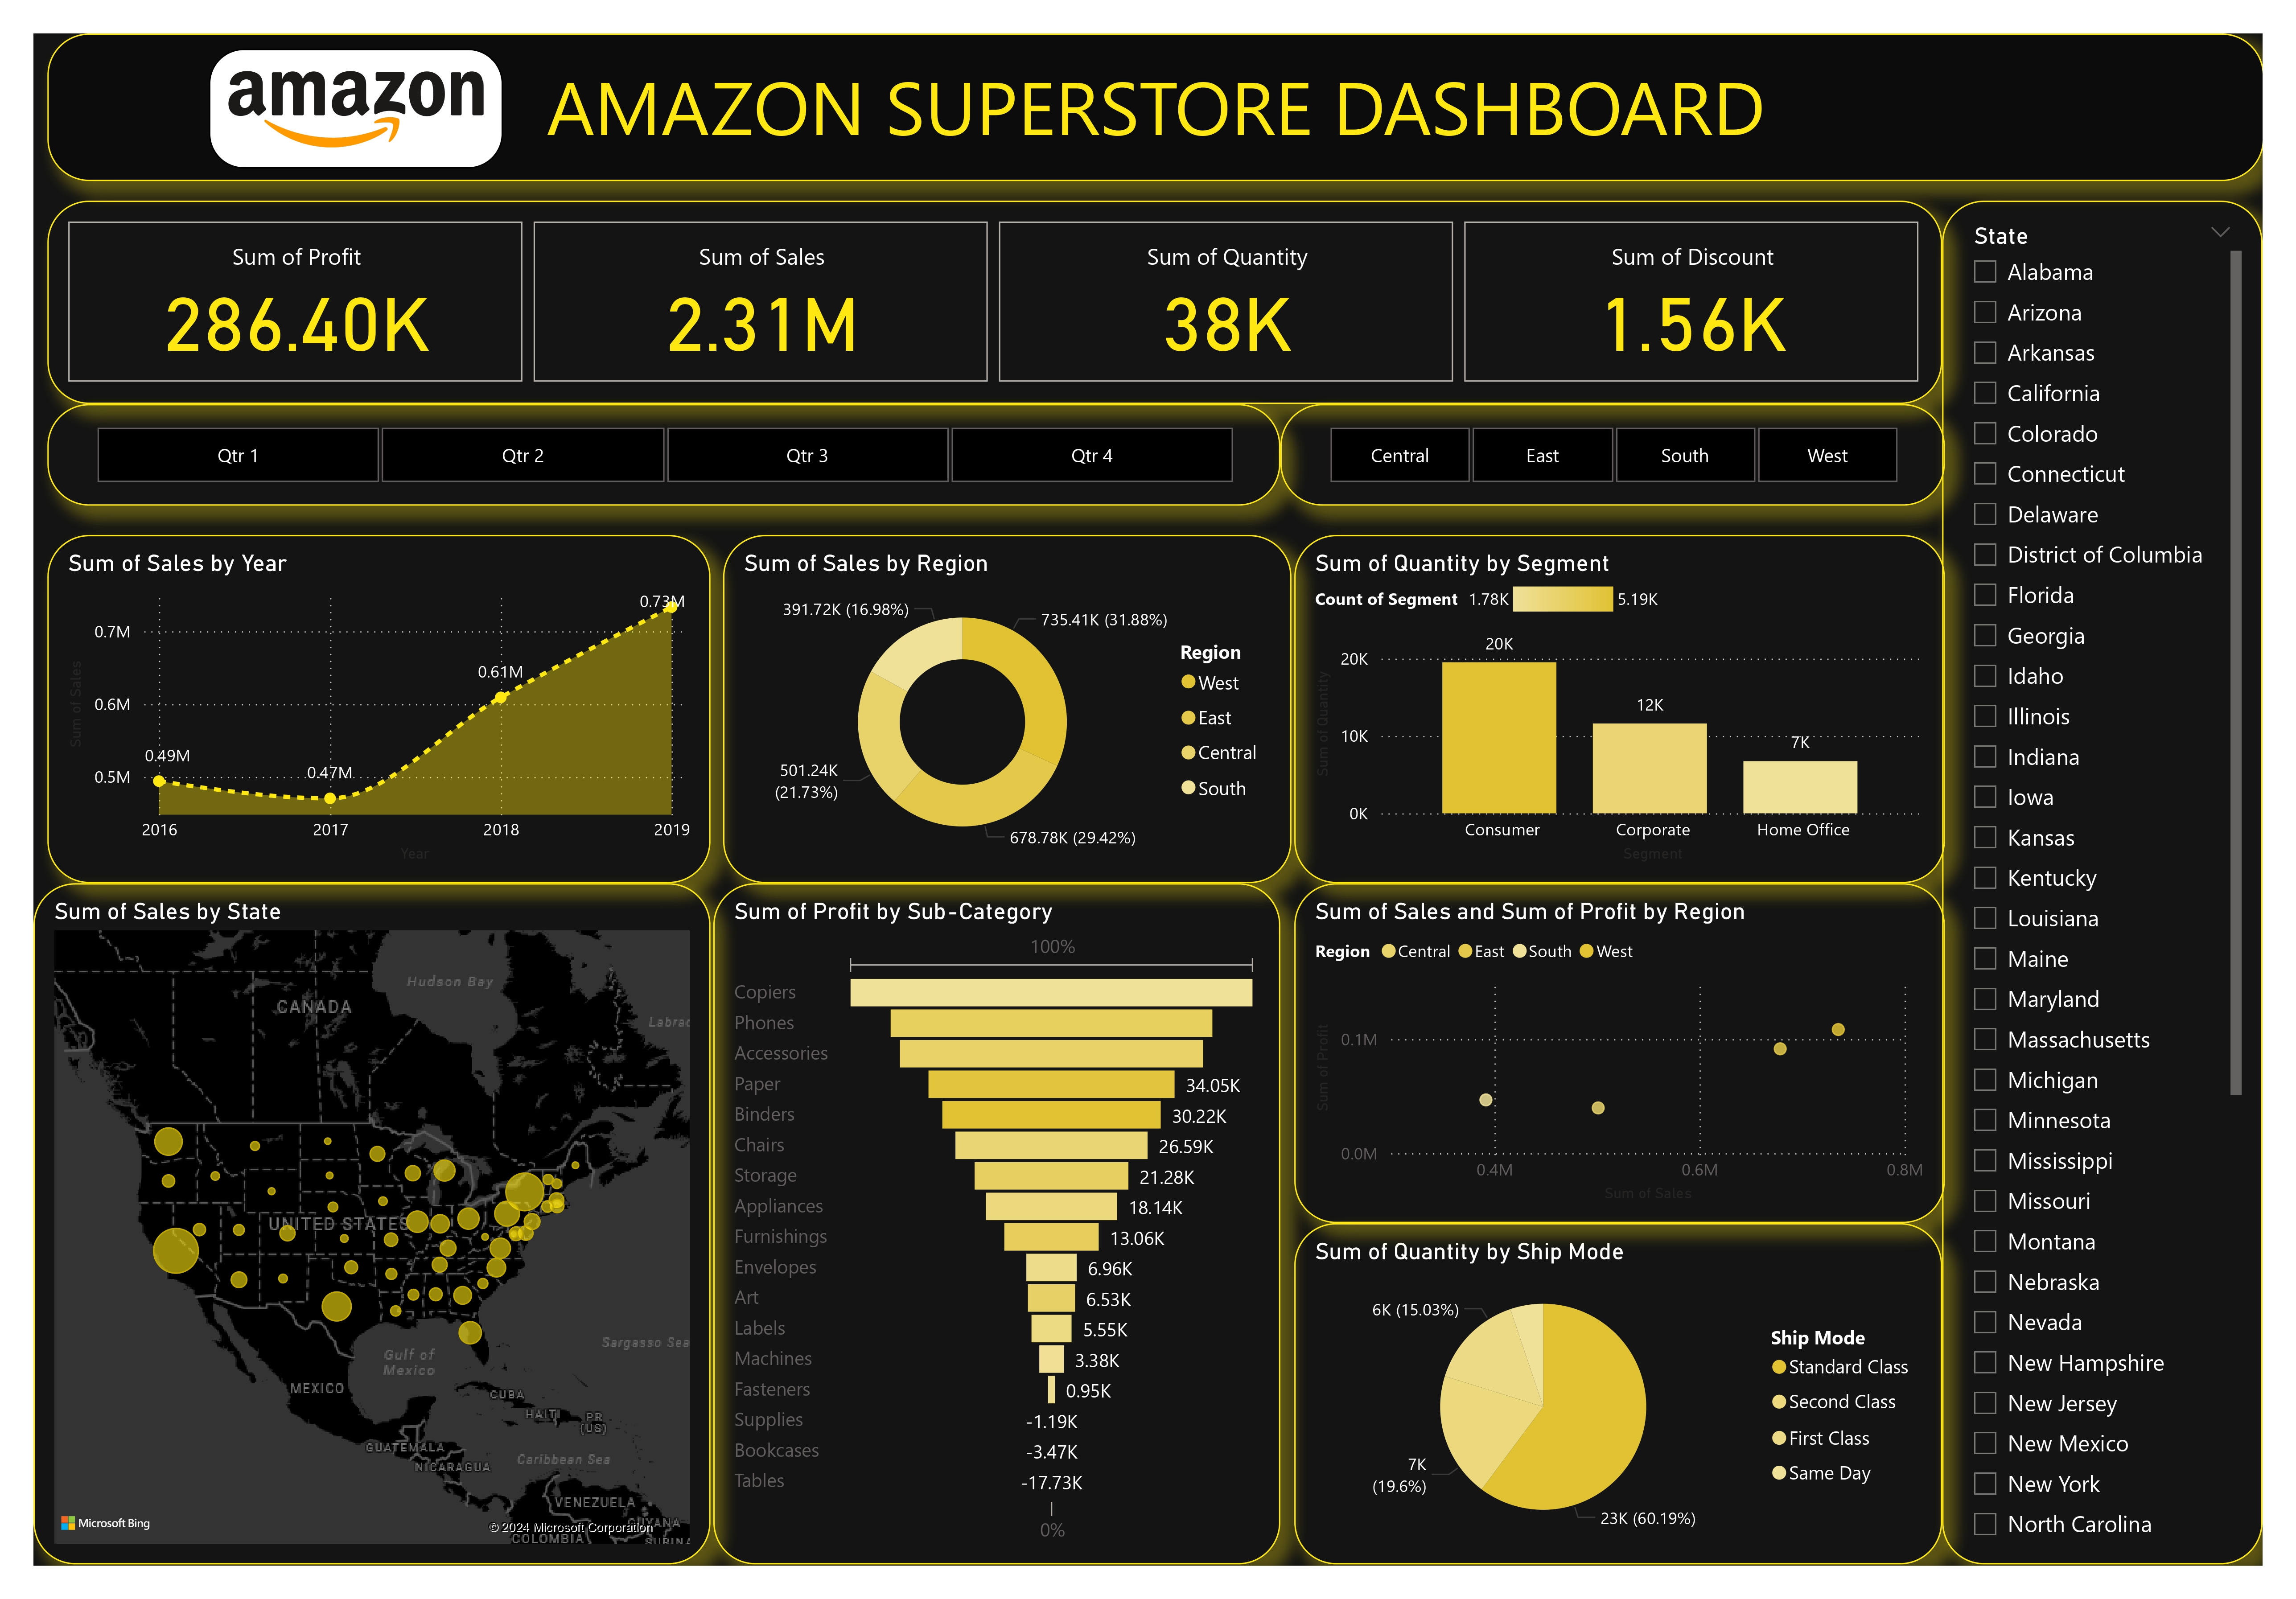

What the dashboard file says about the page in this screenshot:
{"tool":"powerbi","page":{"name":"DASHBAORD","canvas":[1600,1100],"ordinal":0},"visuals":[{"type":"textbox","box":[9.8,0,1590.8,106.4],"z":0},{"type":"donutChart","fields":{"Category":["Orders.Region"],"Y":["Sum(Orders.Sales)"]},"box":[494.5,360,408.6,249.7],"z":1000},{"type":"lineChart","fields":{"Category":["Orders.Order Date.Variation.Date Hierarchy.Year","Orders.Order Date.Variation.Date Hierarchy.Quarter","Orders.Order Date.Variation.Date Hierarchy.Month","Orders.Order Date.Variation.Date Hierarchy.Day"],"Y":["Sum(Orders.Sales)"]},"box":[9.7,360,476.7,249.7],"z":2000},{"type":"map","fields":{"Category":["Orders.State"],"Size":["Sum(Orders.Sales)"]},"box":[0,609.7,486.4,489.7],"z":3000},{"type":"slicer","fields":{"Values":["Orders.State"]},"box":[1370.1,120,230.2,979.3],"z":4000},{"type":"funnel","fields":{"Y":["Sum(Orders.Profit)"],"Category":["Orders.Sub-Category"]},"box":[488,609.7,407,489.7],"z":5000},{"type":"clusteredColumnChart","fields":{"Category":["Orders.Segment"],"Y":["Sum(Orders.Quantity)"]},"box":[904.7,360,467,249.7],"z":6000},{"type":"pieChart","fields":{"Category":["Orders.Ship Mode"],"Y":["Sum(Orders.Quantity)"]},"box":[904.7,854.5,465.3,244.8],"z":7000},{"type":"scatterChart","fields":{"X":["Sum(Orders.Sales)"],"Y":["Sum(Orders.Profit)"],"Series":["Orders.Region"]},"box":[904.7,609.7,467,244.8],"z":8000},{"type":"cardVisual","fields":{"Data":["Sum(Orders.Profit)","Sum(Orders.Sales)","Sum(Orders.Quantity)","Sum(Orders.Discount)"]},"box":[9.7,120,1360.4,145.9],"z":9000},{"type":"slicer","fields":{"Values":["Orders.Order Date.Variation.Date Hierarchy.Quarter"]},"box":[9.7,265.9,885.3,73],"z":10000},{"type":"slicer","fields":{"Values":["Orders.Region"]},"box":[895,265.9,476.7,73],"z":11000},{"type":"image","box":[126.5,11.3,210.8,85.9],"z":11001}]}

Visuals, with their boxes in screenshot pixels (x1, y1, x2, y2):
textbox: [47,33,2263,181]
donutChart - Orders.Region x Sum(Orders.Sales): [722,535,1292,883]
lineChart - Orders.Order Date.Variation.Date Hierarchy.Year x Orders.Order Date.Variation.Date Hierarchy.Quarter: [47,535,711,883]
map - Orders.State x Sum(Orders.Sales): [33,883,711,1565]
slicer - Orders.State: [1942,201,2263,1565]
funnel - Sum(Orders.Profit) x Orders.Sub-Category: [713,883,1280,1565]
clusteredColumnChart - Orders.Segment x Sum(Orders.Quantity): [1294,535,1945,883]
pieChart - Orders.Ship Mode x Sum(Orders.Quantity): [1294,1224,1942,1565]
scatterChart - Sum(Orders.Sales) x Sum(Orders.Profit): [1294,883,1945,1224]
cardVisual - Sum(Orders.Profit) x Sum(Orders.Sales): [47,201,1942,404]
slicer - Orders.Order Date.Variation.Date Hierarchy.Quarter: [47,404,1280,506]
slicer - Orders.Region: [1280,404,1945,506]
image: [210,49,503,169]
